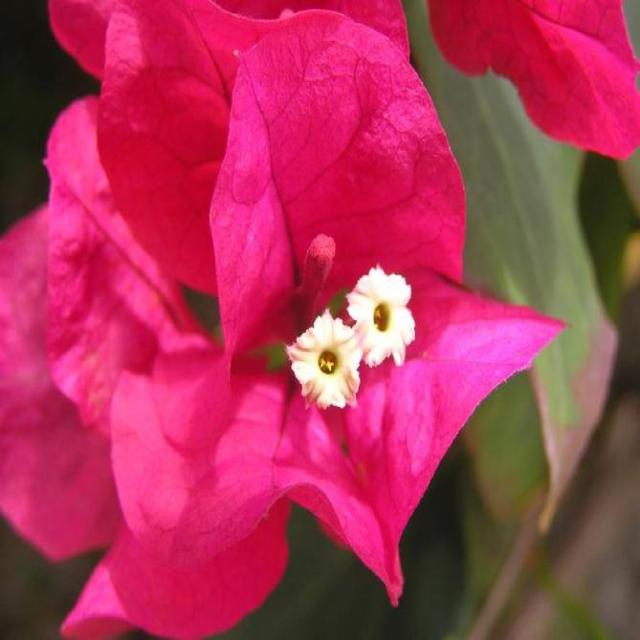bougainvillea: (6, 29, 640, 619)
